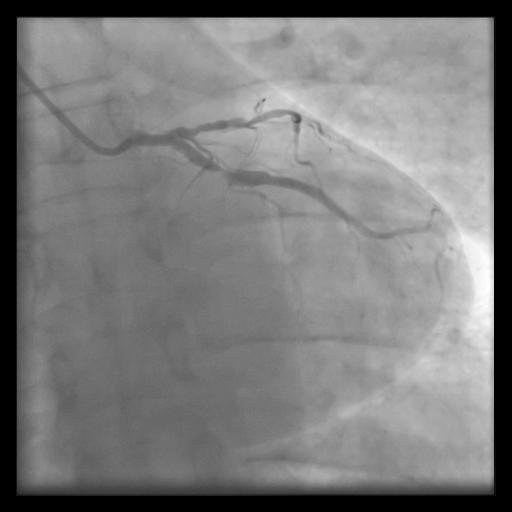Stenosis: (210, 157, 243, 183)
